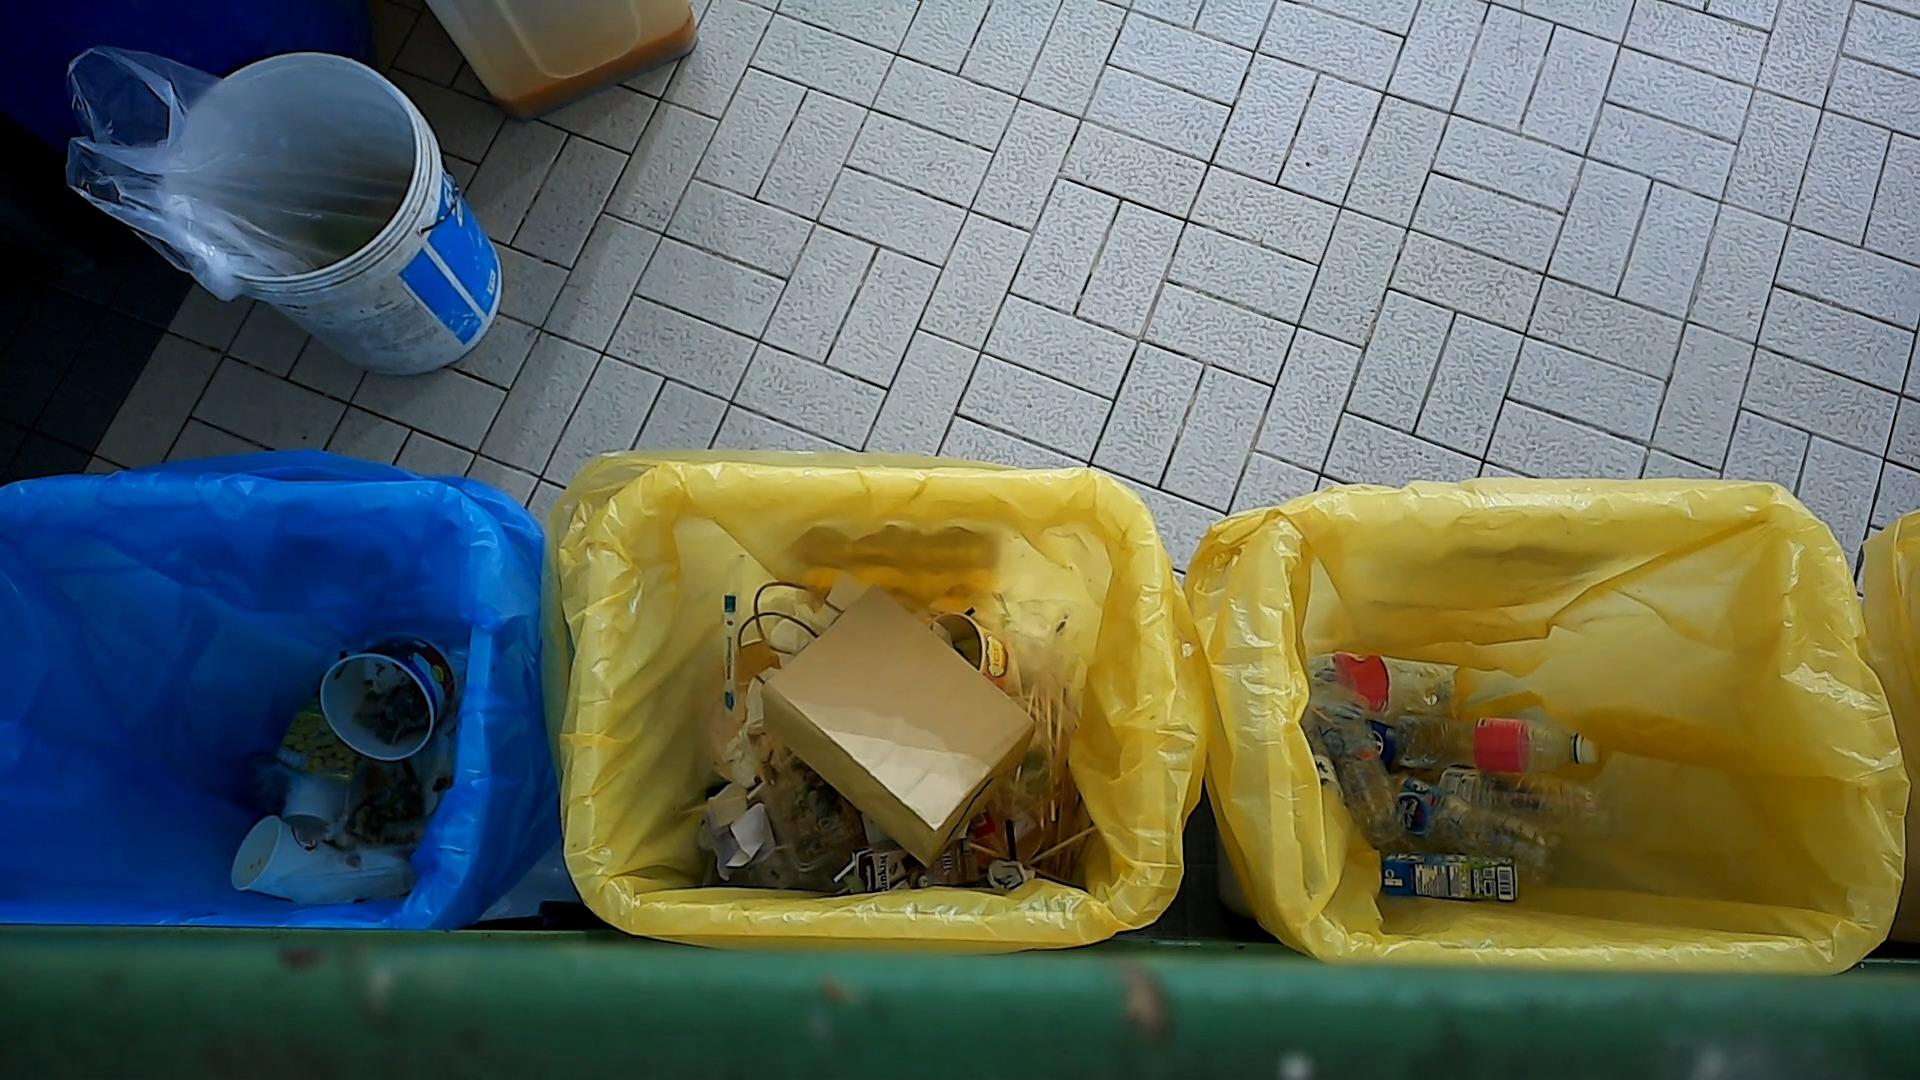dirty food container: (737, 716, 870, 880), (315, 632, 462, 766), (926, 608, 1014, 696)
filled plastic bag: (969, 514, 1121, 757)
milk carton: (831, 833, 986, 898), (1375, 848, 1523, 907)
paper bag: (732, 576, 1034, 878)
plastic bottle: (1382, 766, 1569, 880), (1307, 665, 1408, 848), (1435, 765, 1615, 849), (1387, 712, 1604, 778)
sticks: (1018, 814, 1095, 861)
tissue paper: (758, 570, 880, 675), (716, 659, 791, 790), (711, 802, 778, 885), (694, 781, 753, 856), (980, 853, 1031, 891)
zero waste cup: (229, 811, 377, 907)
